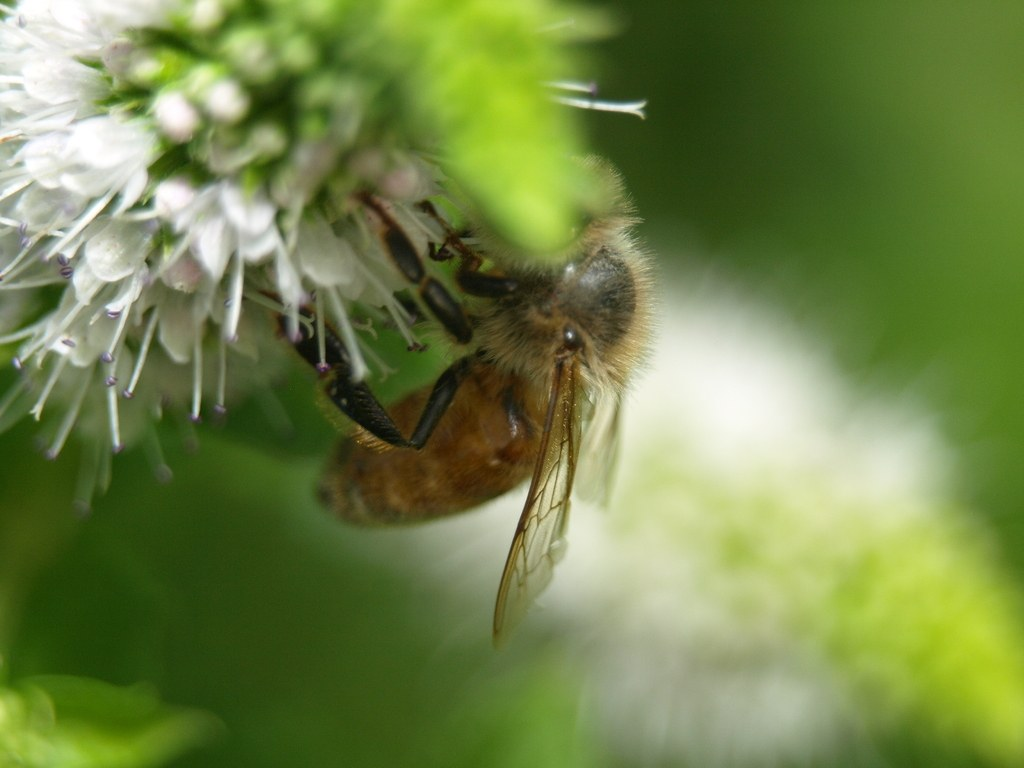bee: (317, 195, 655, 665)
insect: (44, 37, 524, 480)
